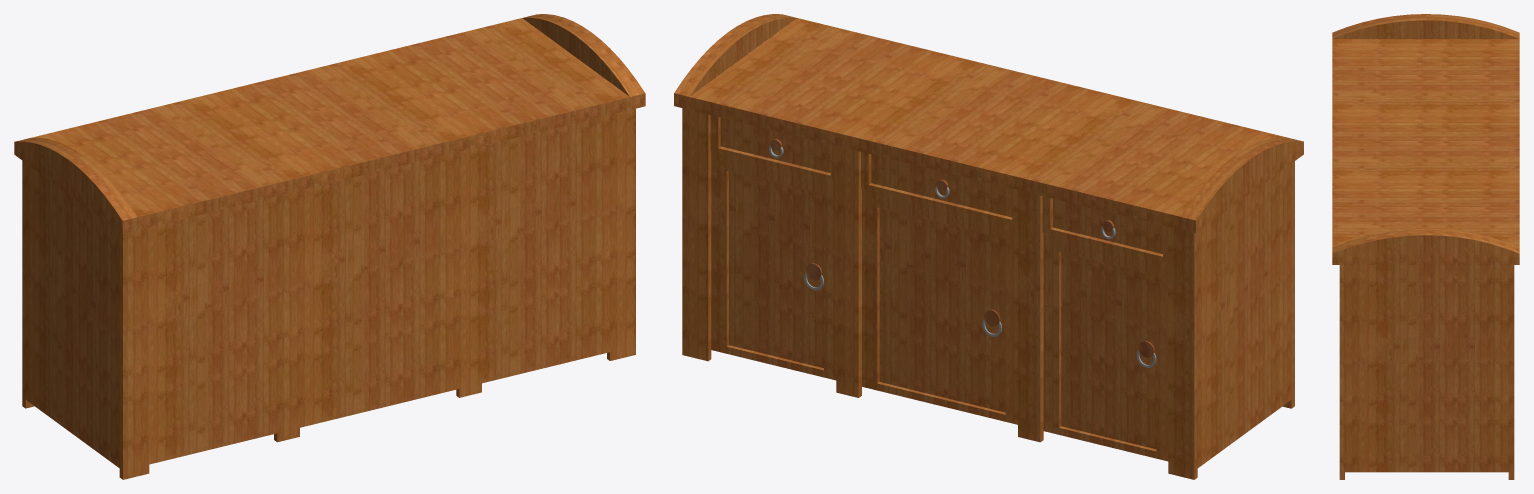
3 views of the same model, side by side, from view 1: azimuth 30°, elevation 25°; view 2: azimuth 150°, elevation 25°; view 3: azimuth 270°, elevation 25° (orthographic). The views are drawn at different scales.
Visible parts, largest first — view 1: mesh1_mesh1-geometry; view 2: mesh1_mesh1-geometry, mesh1_mesh1-geometry_4, mesh1_mesh1-geometry_2; view 3: mesh1_mesh1-geometry.
Boxes of the visible parts, bbox=[...] form: mesh1_mesh1-geometry: bbox=[14, 14, 645, 479]; mesh1_mesh1-geometry: bbox=[674, 14, 1303, 479]; mesh1_mesh1-geometry_4: bbox=[770, 139, 1154, 357]; mesh1_mesh1-geometry_2: bbox=[769, 145, 1156, 367]; mesh1_mesh1-geometry: bbox=[1332, 14, 1519, 479].
Size of the model in its own units: 0.8454 by 0.4401 by 0.3027.
Materials: 5 (3 with a texture image).
